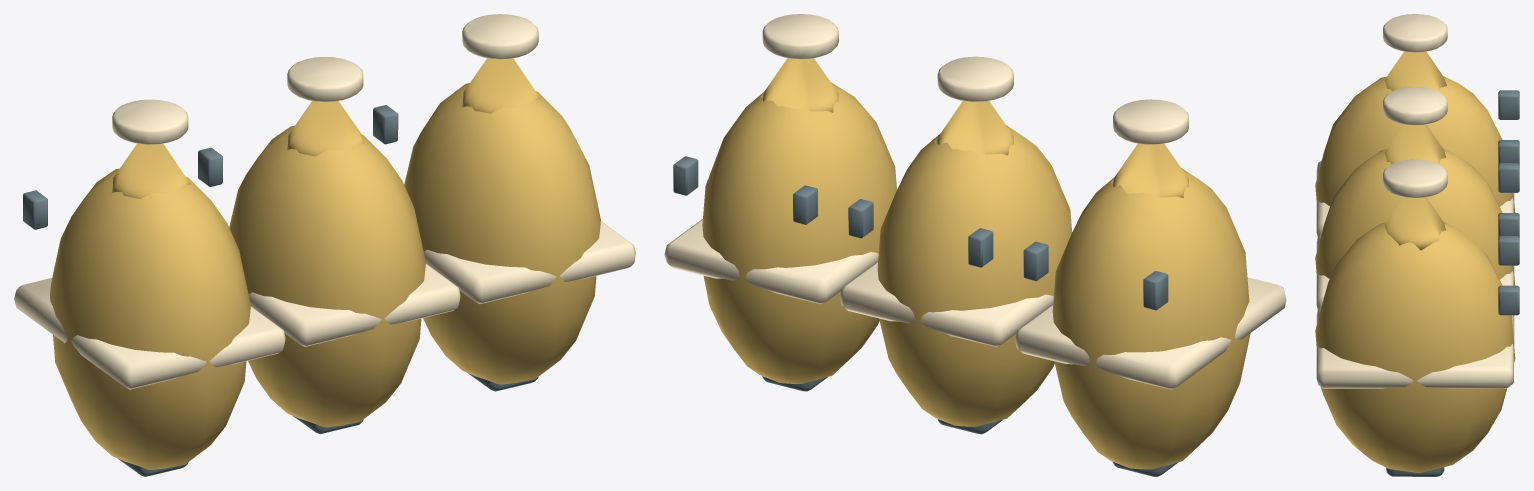
The model's file is broto_hoppers_seed_mobile.glb.
3 renders of one model, left to right at view 1: azimuth 30°, elevation 25°; view 2: azimuth 150°, elevation 25°; view 3: azimuth 270°, elevation 25°, orthographic. The views are drawn at different scales.
Parts seen in each view (by area): view 1: Hoppers, CraftDetails; view 2: Hoppers, CraftDetails; view 3: Hoppers, CraftDetails.
Boxes of the visible parts, x1,y1,x2,y2 form: Hoppers: (14,58,635,469); CraftDetails: (23,14,538,476); Hoppers: (664,58,1286,469); CraftDetails: (673,14,1188,476); Hoppers: (1315,51,1515,473); CraftDetails: (1383,14,1519,476).
Bounding box in the file's own units: 2.32 × 1.5 × 0.9378.
